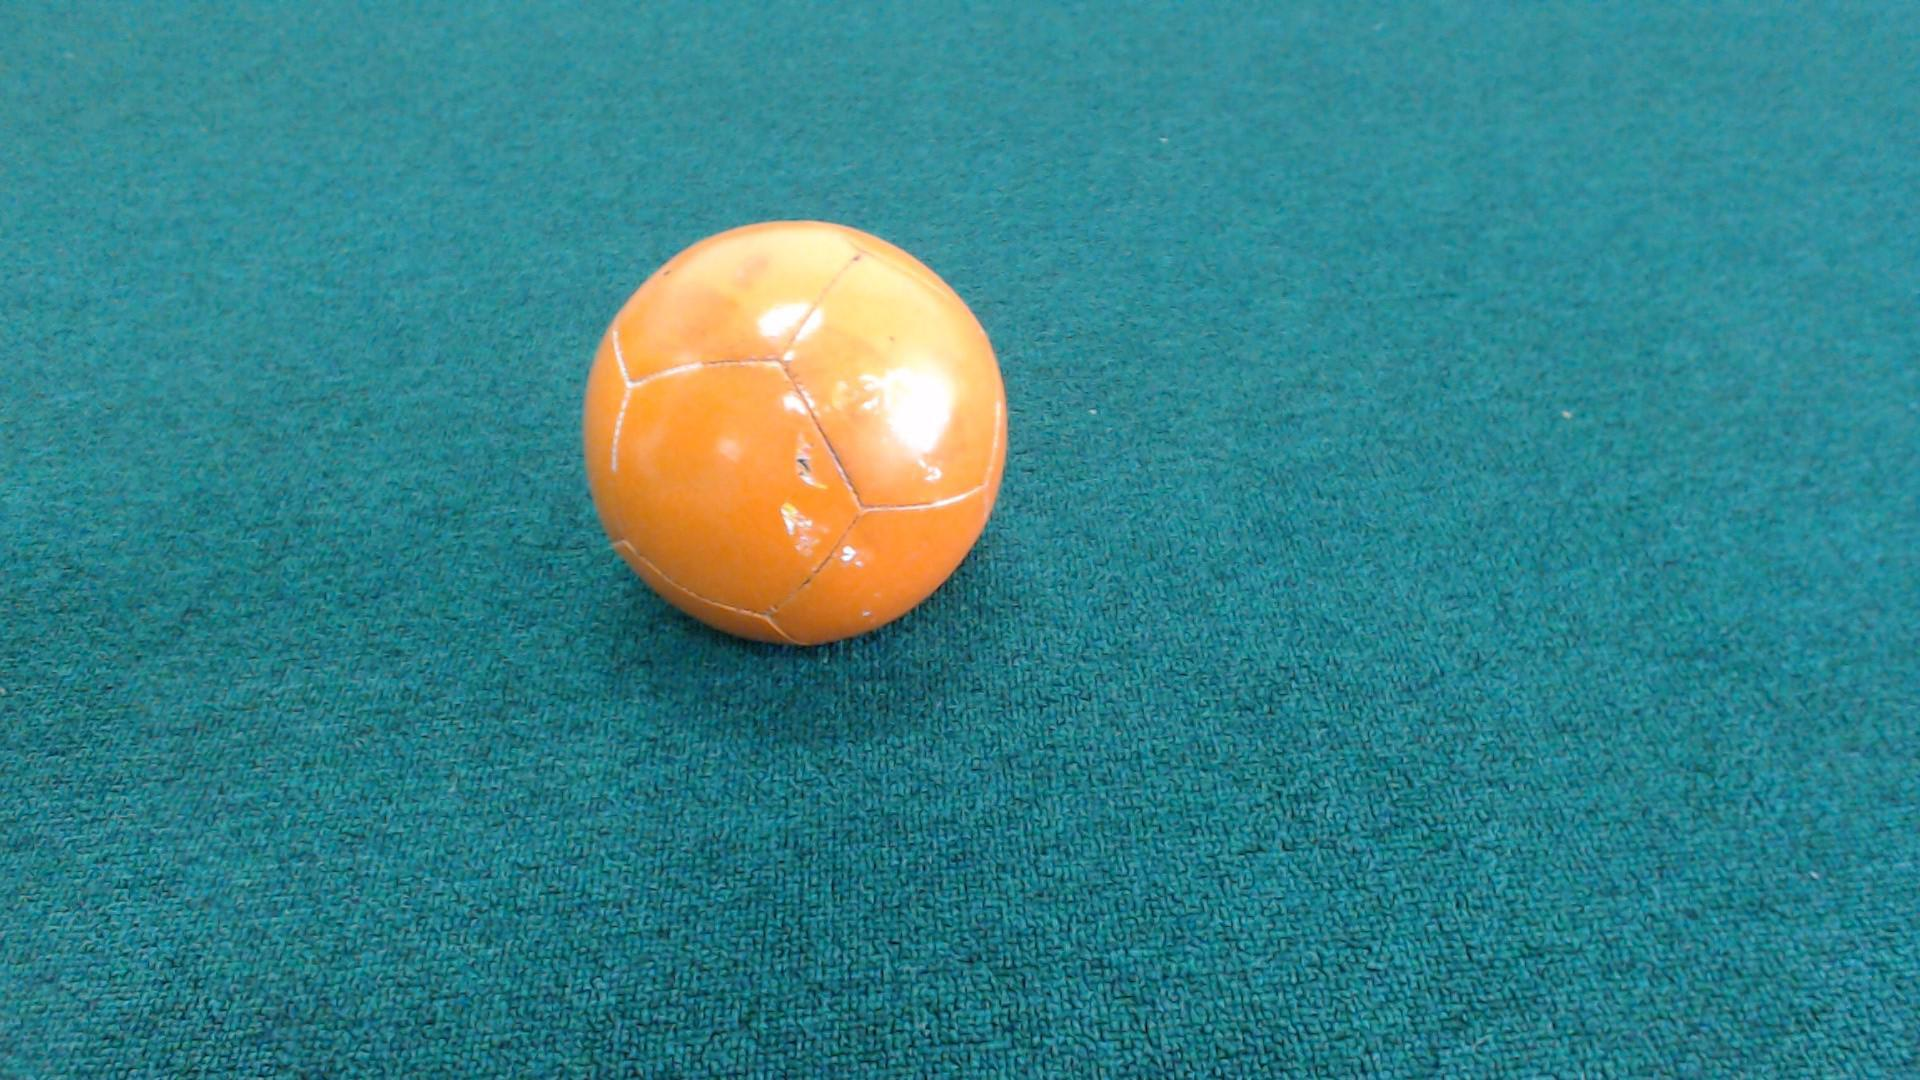bola: (554, 186, 1017, 669)
